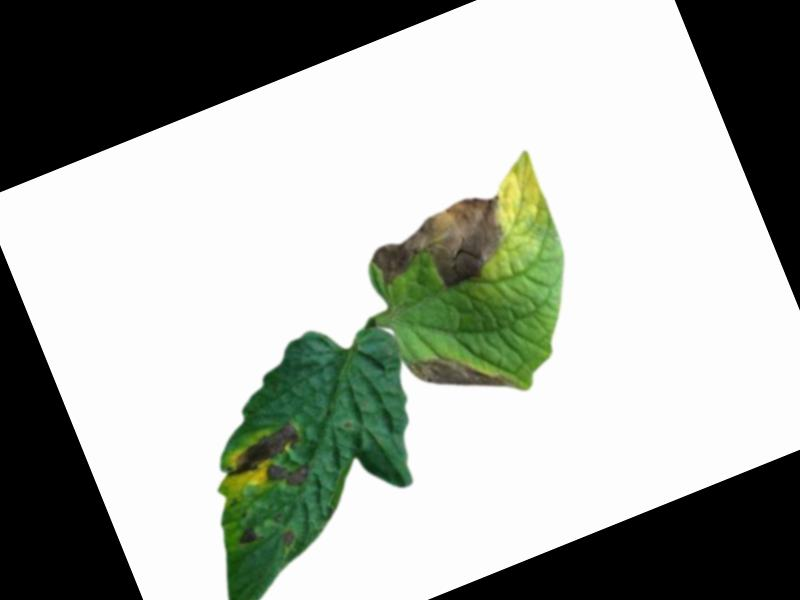Early_blight: (361, 186, 526, 313), (404, 326, 518, 424), (216, 415, 329, 510), (232, 523, 263, 551), (279, 529, 298, 551)
